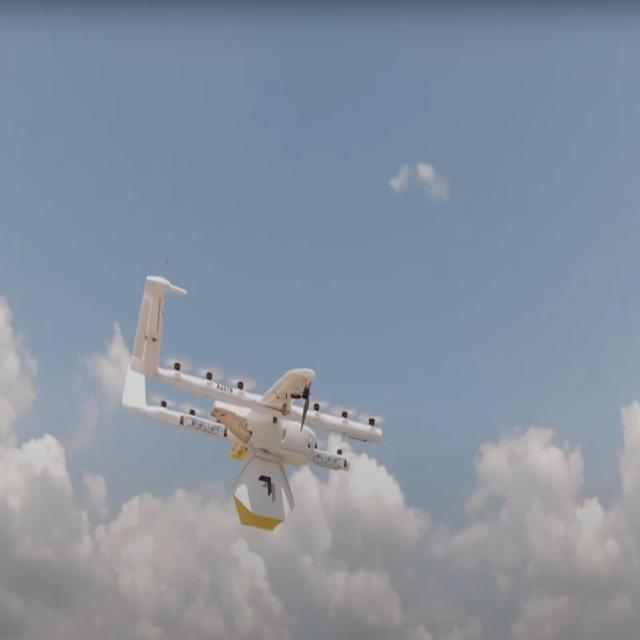iha: (119, 263, 396, 500)
